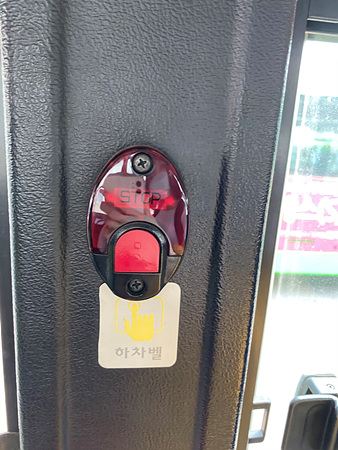bell: (85, 144, 189, 301)
